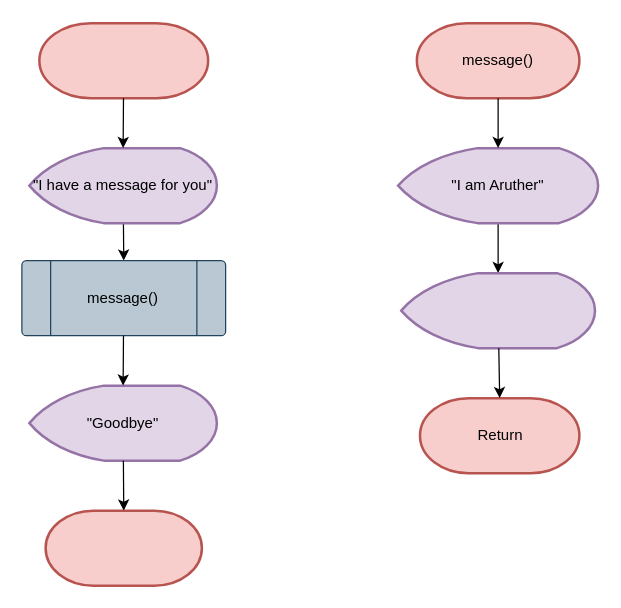
The diagram is 621 pixels wide and 608 high, and some of its shapes have lost their labels. Here are the shapes that lost their labels. From the top down, the centre of each, then its label:
point (123, 60): Start
point (497, 310): "King of Britons"
point (123, 547): Stop
